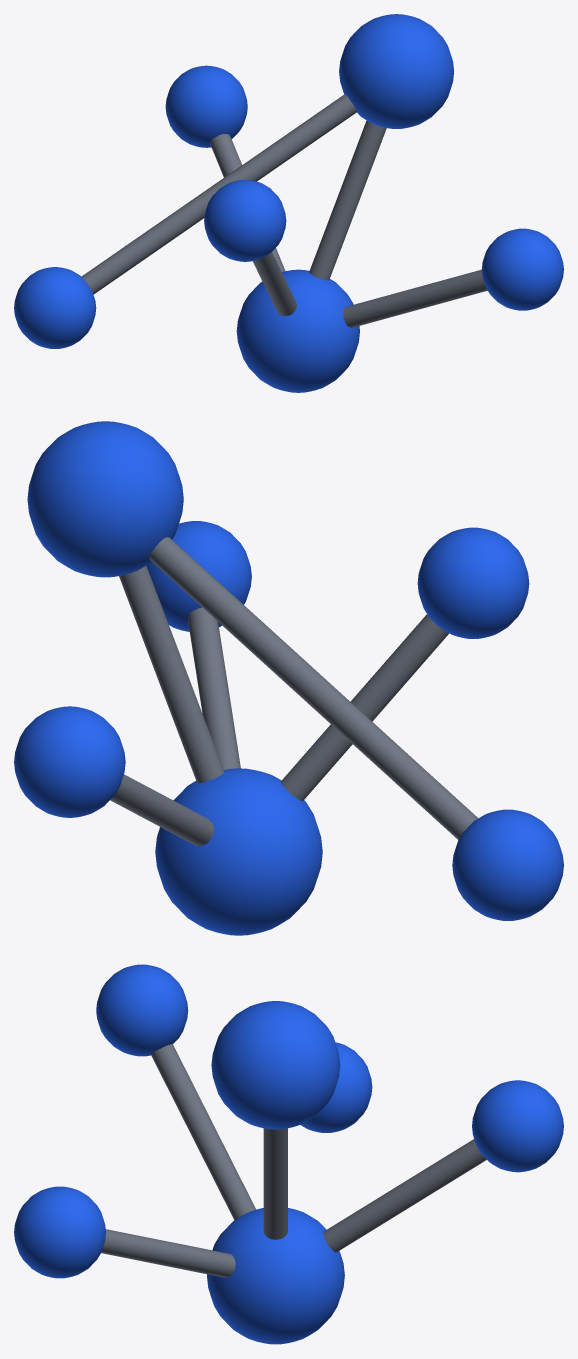
3 renders of one model, top to bottom at view 1: azimuth 30°, elevation 25°; view 2: azimuth 150°, elevation 25°; view 3: azimuth 270°, elevation 25°, orthographic. The views are drawn at different scales.
Visible parts, largest first — view 1: C1, O1, object 11, H3, H1, H4, H2, object 10, object 9, object 7, object 8; view 2: C1, O1, object 11, H4, H2, H1, object 10, object 7, H3, object 9, object 8; view 3: C1, O1, H3, H2, H1, object 7, object 8, object 9, H4, object 10.
Part boxes in pixels (x1,y1,x2,y2): C1: (236, 269, 359, 392); O1: (339, 14, 453, 128); object 11: (81, 94, 356, 294); H3: (481, 228, 563, 310); H1: (204, 179, 286, 261); H4: (14, 267, 96, 348); H2: (165, 65, 247, 147); object 10: (309, 120, 386, 280); object 9: (343, 269, 487, 327); object 7: (252, 252, 296, 316); object 8: (210, 134, 285, 271); C1: (155, 768, 322, 935); O1: (27, 421, 183, 577); object 11: (149, 537, 478, 839); H4: (452, 809, 563, 920); H2: (14, 706, 125, 817); H1: (417, 527, 529, 638); object 10: (119, 565, 224, 782); object 7: (281, 614, 448, 801); H3: (146, 521, 251, 631); object 9: (188, 607, 240, 769); object 8: (110, 774, 213, 845); C1: (207, 1208, 344, 1344); O1: (211, 1001, 340, 1129); H3: (14, 1186, 105, 1278); H2: (472, 1080, 563, 1172); H1: (96, 964, 188, 1056); object 7: (151, 1044, 255, 1220); object 8: (323, 1139, 486, 1252); object 9: (101, 1229, 235, 1277); H4: (300, 1042, 372, 1132); object 10: (263, 1128, 287, 1239).
Bounding box in the file's own units: 0.3538 × 0.2767 × 0.3585.
